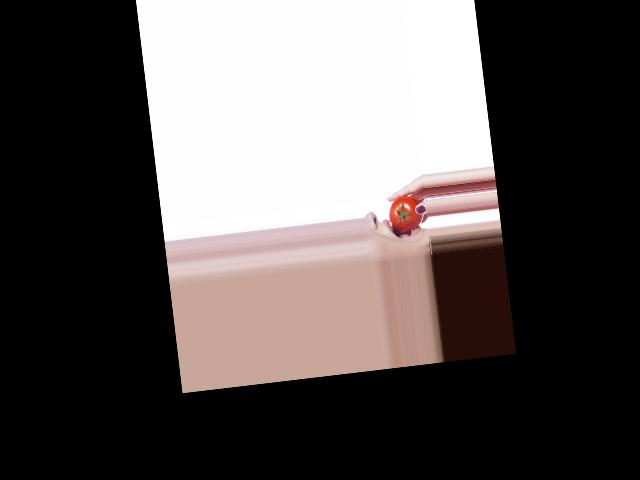tomato: (387, 193, 425, 232)
